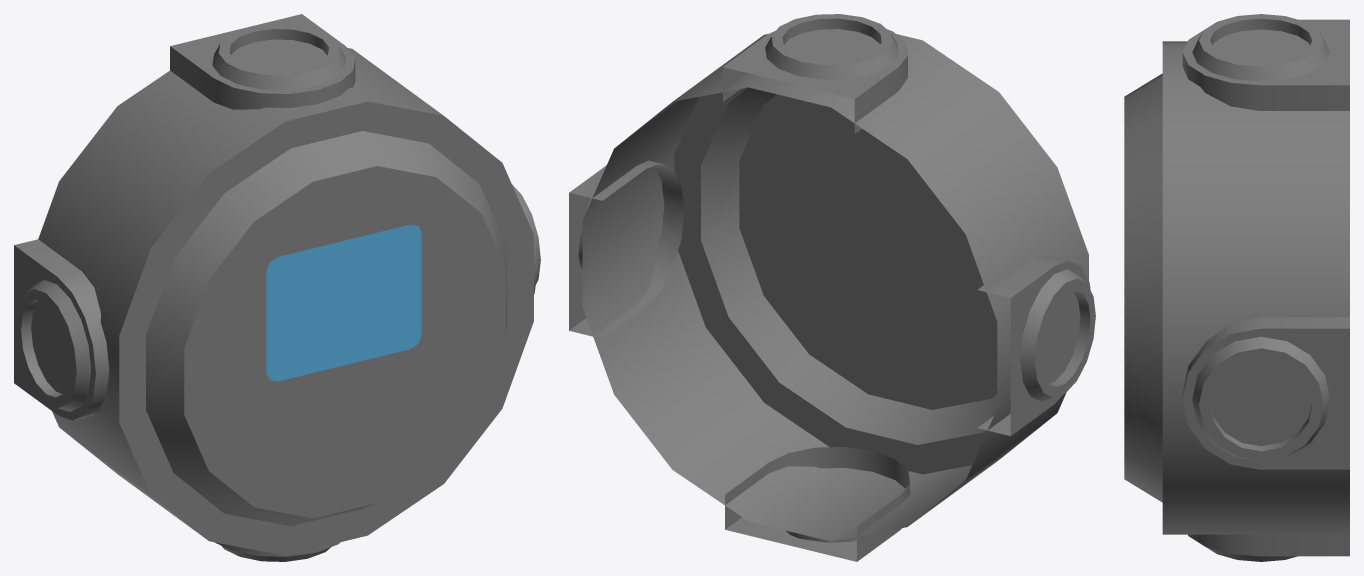
File: Misc_CableBox_01_B_Large.fbx
3 views of the same model, side by side, from view 1: azimuth 30°, elevation 25°; view 2: azimuth 150°, elevation 25°; view 3: azimuth 270°, elevation 25° (orthographic). The views are drawn at different scales.
Visible parts, largest first — view 1: Misc_CableBox_01_B_Large.001; view 2: Misc_CableBox_01_B_Large.001; view 3: Misc_CableBox_01_B_Large.001.
Boxes of the visible parts, x1,y1,x2,y2 form: Misc_CableBox_01_B_Large.001: (14,14,540,561); Misc_CableBox_01_B_Large.001: (569,14,1095,561); Misc_CableBox_01_B_Large.001: (1124,14,1349,561).
Bounding box in the file's own units: 0.3095 × 0.3095 × 0.1276.
